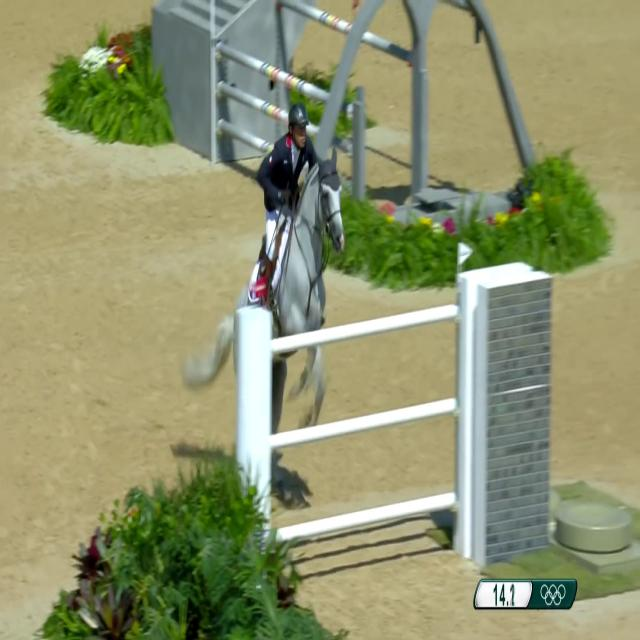Horse Jumping: (179, 149, 349, 498)
Horse Rider: (260, 88, 321, 292)
